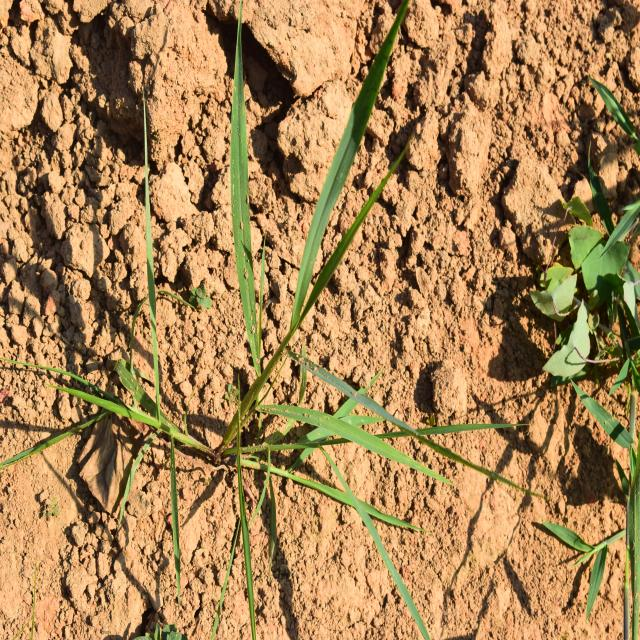green_foxtail: (214, 89, 420, 563)
